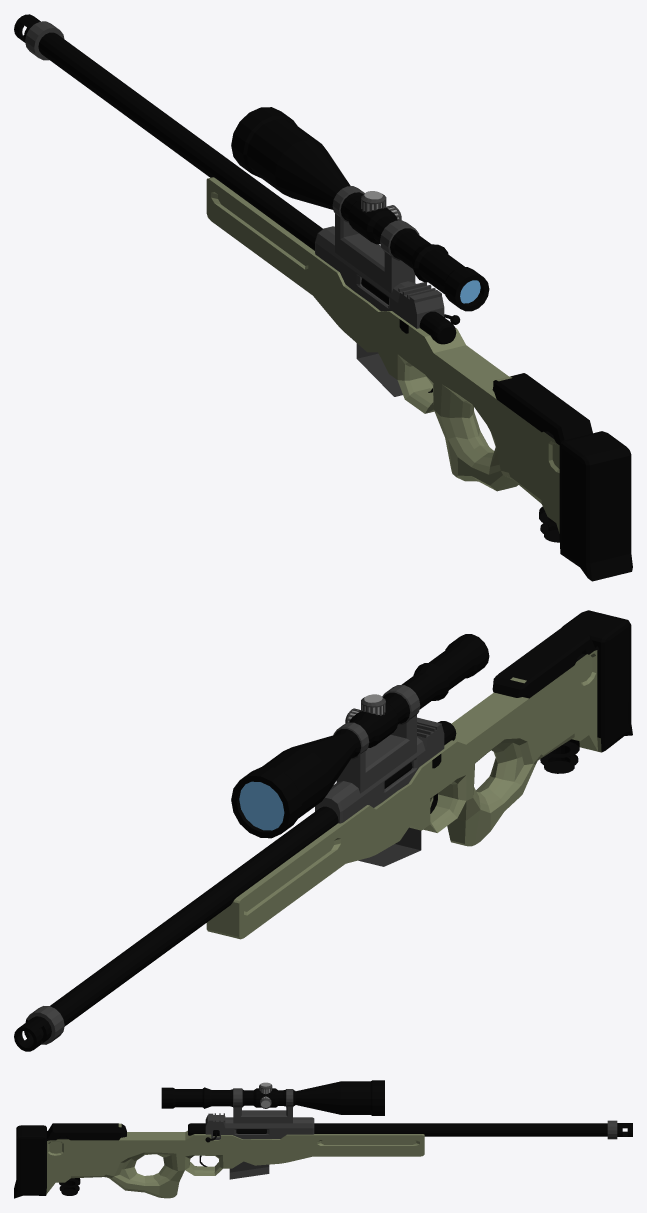
Rendered from AWM.fbx.
3 views of the same model, one above another, from view 1: azimuth 30°, elevation 25°; view 2: azimuth 150°, elevation 25°; view 3: azimuth 270°, elevation 25° (orthographic). The views are drawn at different scales.
Visible parts, largest first — view 1: AWM; view 2: AWM; view 3: AWM.
Boxes of the visible parts, <box> form: AWM: <box>14,14,632,581</box>; AWM: <box>14,610,632,1051</box>; AWM: <box>14,1080,632,1198</box>.
Size of the model in its own units: 27.72 by 93.75 by 464.
